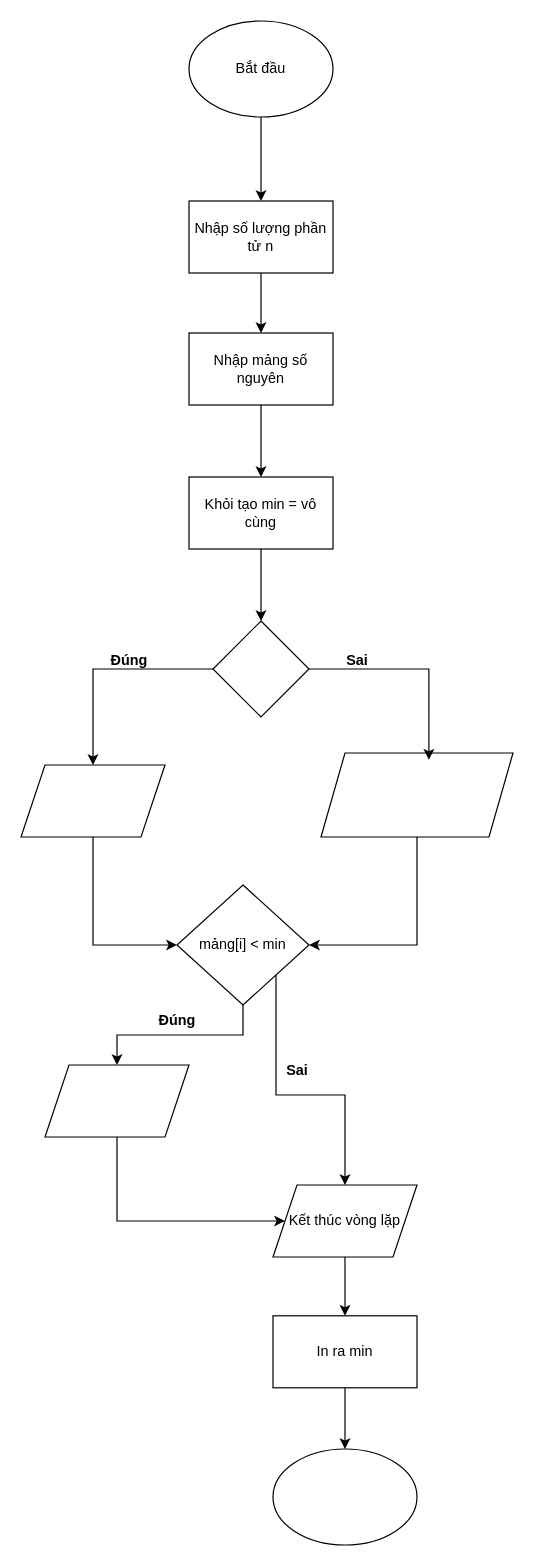
Image size: 534x1566. Some labels were removed from this diagram. Each missing label, with the centre of its shape:
"In ra mảng rỗng" goes at [92,800].
"Lặp từ i = 0 đến n - 1" goes at [416,794].
"min = mảng[i]" goes at [116,1100].
"n <= 0" goes at [260,668].
